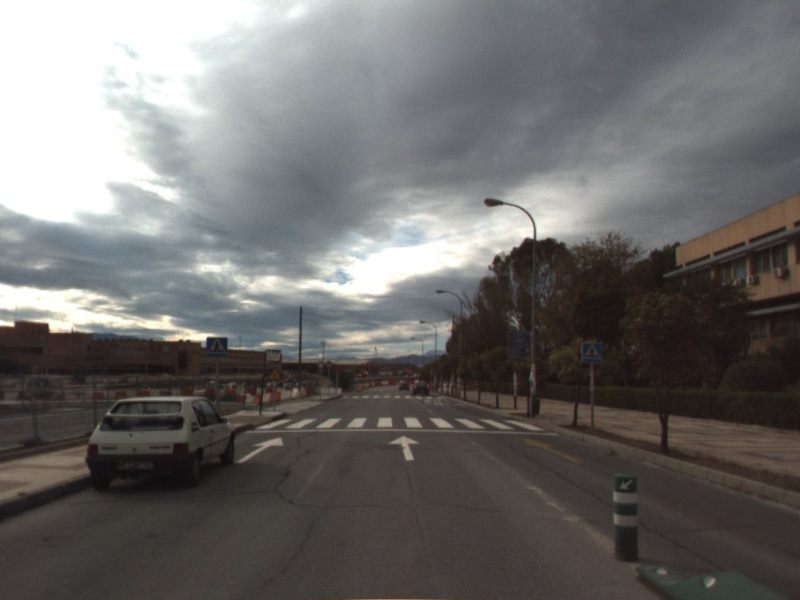STRAIGHT: (522, 436, 587, 466), (233, 434, 285, 465), (387, 433, 422, 463)
